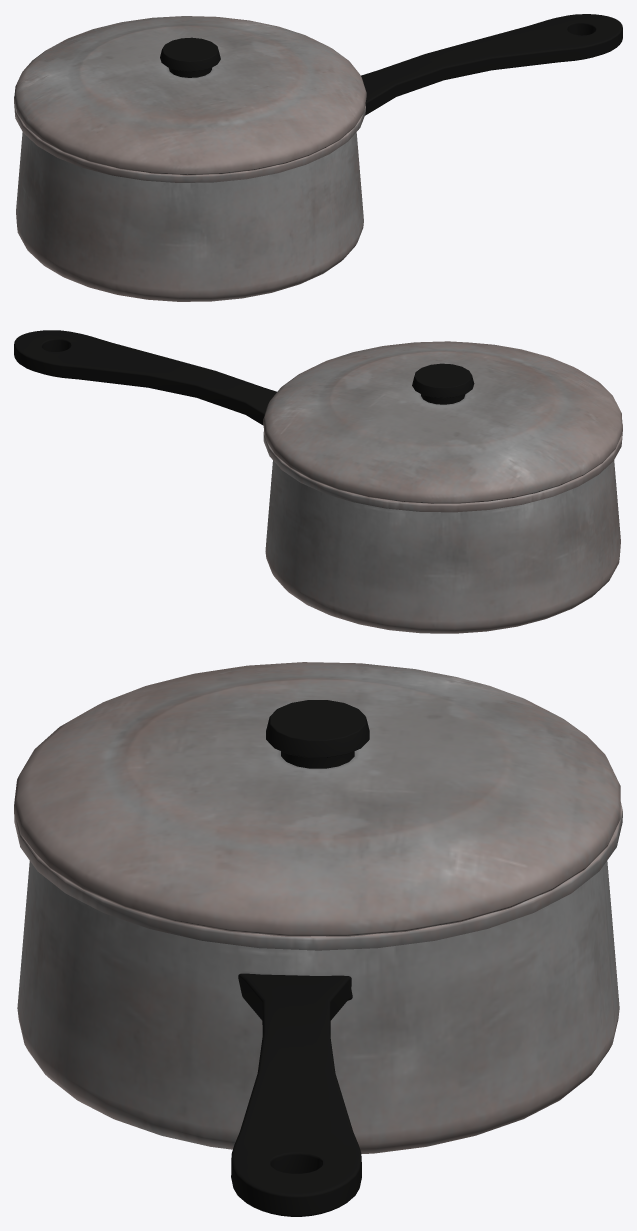
Rendered from SM_PAD_KitchenwareSet_Pot03_c1_LOD1.fbx.
The picture shows the model from 3 angles, top to bottom: view 1: azimuth 30°, elevation 25°; view 2: azimuth 150°, elevation 25°; view 3: azimuth 270°, elevation 25°; orthographic projection. The views are drawn at different scales.
Parts seen in each view (by area): view 1: SM_PAD_KitchenwareSet_Pot03_c1_LOD1_LOD0; view 2: SM_PAD_KitchenwareSet_Pot03_c1_LOD1_LOD0; view 3: SM_PAD_KitchenwareSet_Pot03_c1_LOD1_LOD0.
Boxes of the visible parts, x1,y1,x2,y2 form: SM_PAD_KitchenwareSet_Pot03_c1_LOD1_LOD0: (14, 14, 622, 301); SM_PAD_KitchenwareSet_Pot03_c1_LOD1_LOD0: (14, 330, 622, 633); SM_PAD_KitchenwareSet_Pot03_c1_LOD1_LOD0: (14, 662, 622, 1216).
Bounding box in the file's own units: 43.87 × 23.29 × 13.49.
